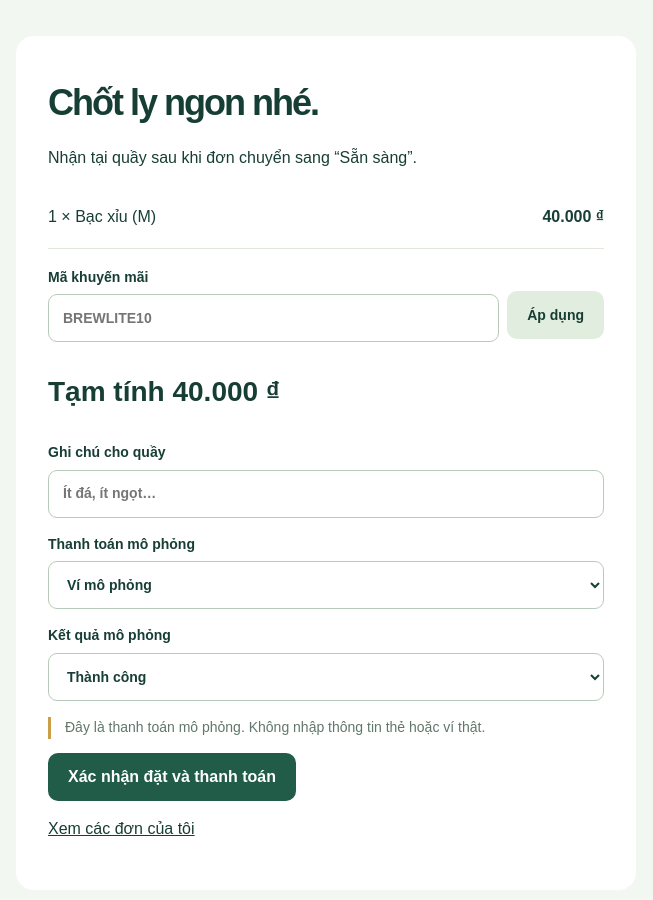
Test: clears stale draft on non-IDEMPOTENCY_IN_PROGRESS 409 error so user can retry ordering
This screenshot has width=653, height=900.
Expected: the text "Tạm tính 40.000 ₫" is shown, [48, 376, 280, 407]
Step 1. Click the button "Xác nhận đặt và thanh toán" → (172, 777), box [48, 753, 296, 801]
(page scrolled)
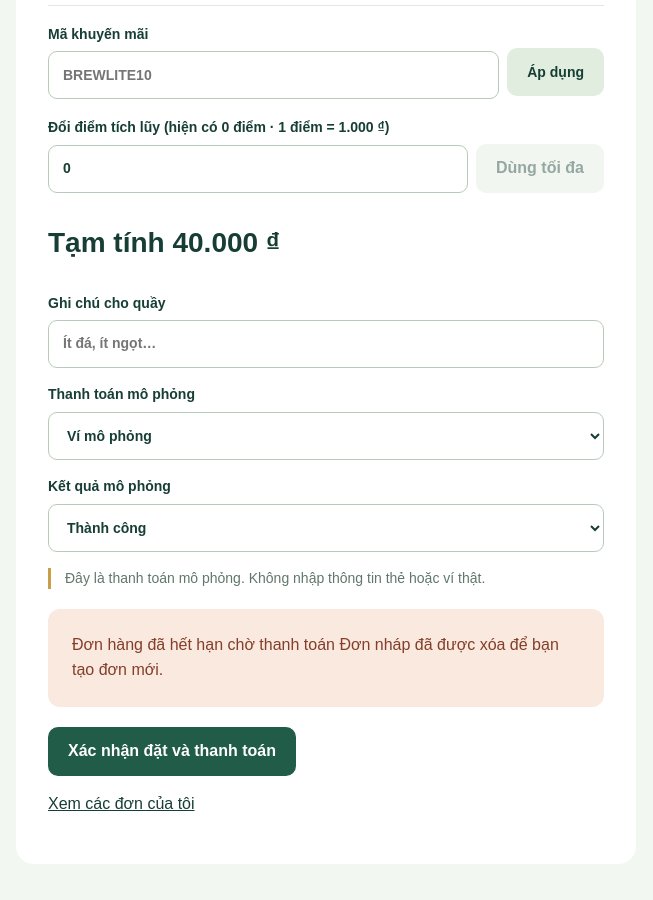
Expected: the button "Xác nhận đặt và thanh toán" is shown, [48, 727, 296, 776]
Now the message shows "Đơn nháp đã được xóa để bạn tạo đơn mới", box [72, 636, 559, 678]
